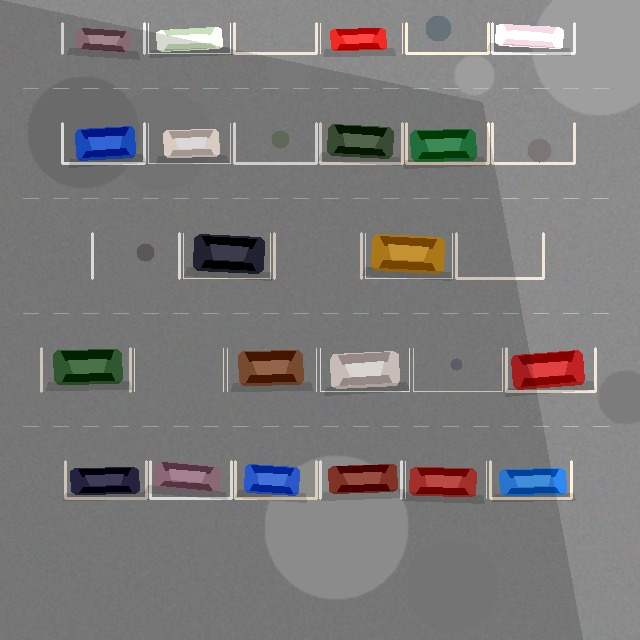space-empty: (92, 233, 179, 278), (274, 233, 361, 278), (456, 233, 543, 278), (134, 348, 223, 391), (413, 348, 502, 391), (234, 123, 316, 163), (492, 123, 574, 163), (234, 23, 316, 53), (406, 23, 488, 53)
space-occupied: (183, 233, 270, 278), (365, 233, 452, 278), (41, 348, 130, 391), (227, 348, 316, 391), (320, 348, 409, 391), (506, 348, 595, 391), (62, 123, 144, 163), (148, 123, 230, 163), (320, 123, 402, 163), (406, 123, 488, 163), (65, 461, 146, 498), (150, 461, 231, 498), (235, 461, 316, 498), (320, 461, 401, 498), (405, 461, 486, 498), (490, 461, 571, 498), (62, 23, 144, 53), (148, 23, 230, 53), (320, 23, 402, 53), (492, 23, 574, 53)
